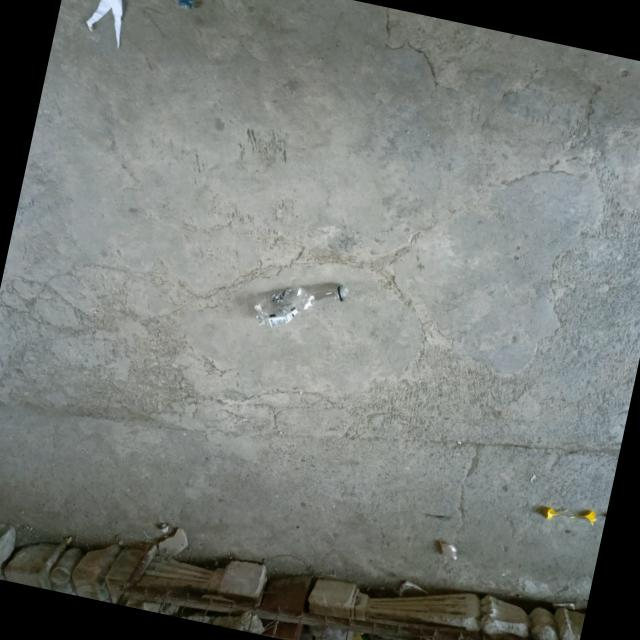Bottle: (252, 283, 347, 326)
